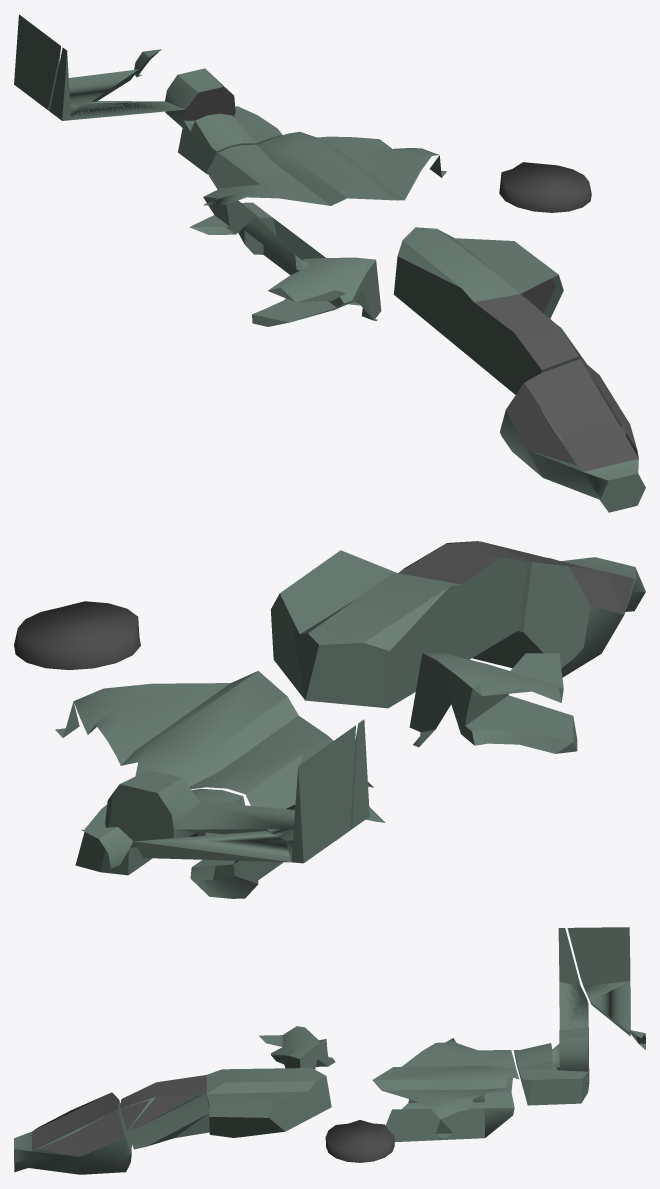
3 views of the same model, one above another, from view 1: azimuth 30°, elevation 25°; view 2: azimuth 150°, elevation 25°; view 3: azimuth 270°, elevation 25° (orthographic). The views are drawn at different scales.
Parts seen in each view (by area): view 1: Plane_cell.005, Plane_cell.022, Plane_cell, Plane_cell.001, Plane_cell.019, Plane_cell.004, Plane_cell.025; view 2: Plane_cell.005, Plane_cell.022, Plane_cell.019, Plane_cell.001, Plane_cell, Plane_cell.004, Plane_cell.025; view 3: Plane_cell.005, Plane_cell.022, Plane_cell, Plane_cell.001, Plane_cell.004, Plane_cell.025, Plane_cell.019.
Boxes of the visible parts, left/top/right/bottom form: Plane_cell.005: left=393, top=227, right=586, bottom=394; Plane_cell.022: left=189, top=131, right=446, bottom=305; Plane_cell: left=500, top=358, right=645, bottom=512; Plane_cell.001: left=49, top=47, right=282, bottom=174; Plane_cell.019: left=252, top=257, right=381, bottom=326; Plane_cell.004: left=14, top=14, right=161, bottom=110; Plane_cell.025: left=499, top=162, right=591, bottom=212; Plane_cell.005: left=270, top=541, right=527, bottom=708; Plane_cell.022: left=55, top=671, right=385, bottom=898; Plane_cell.019: left=409, top=653, right=577, bottom=753; Plane_cell.001: left=75, top=719, right=369, bottom=875; Plane_cell: left=472, top=541, right=645, bottom=677; Plane_cell.004: left=81, top=725, right=355, bottom=871; Plane_cell.025: left=14, top=601, right=140, bottom=669; Plane_cell.005: left=120, top=1068, right=331, bottom=1149; Plane_cell.022: left=372, top=1038, right=518, bottom=1141; Plane_cell: left=14, top=1092, right=131, bottom=1174; Plane_cell.001: left=513, top=928, right=589, bottom=1105; Plane_cell.004: left=567, top=927, right=645, bottom=1049; Plane_cell.025: left=325, top=1120, right=394, bottom=1162; Plane_cell.019: left=259, top=1026, right=335, bottom=1069.
Size of the model in its own units: 25.42 by 14.68 by 48.58.
